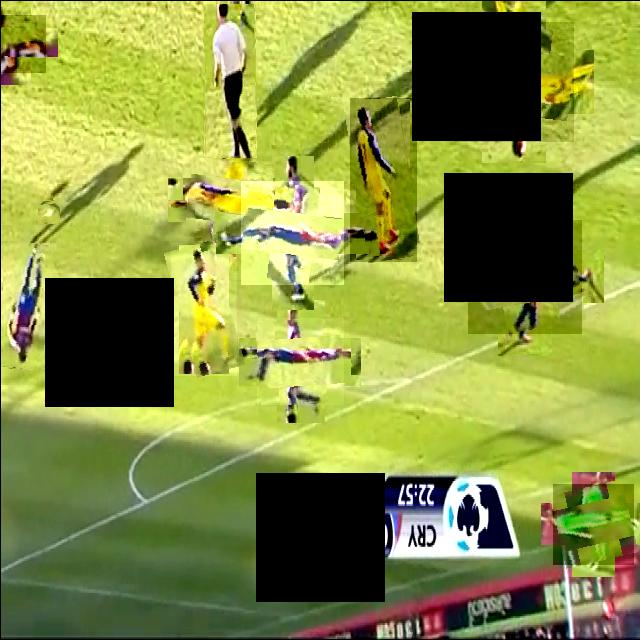ball: (37, 201, 59, 222)
goalkeeper: (552, 483, 633, 564)
referee: (202, 0, 255, 156)
soccer-player: (453, 21, 573, 141), (467, 219, 581, 333), (349, 97, 416, 261), (240, 180, 343, 284), (170, 242, 236, 375), (256, 317, 343, 404), (185, 156, 271, 242), (0, 242, 52, 369), (0, 14, 45, 72)
